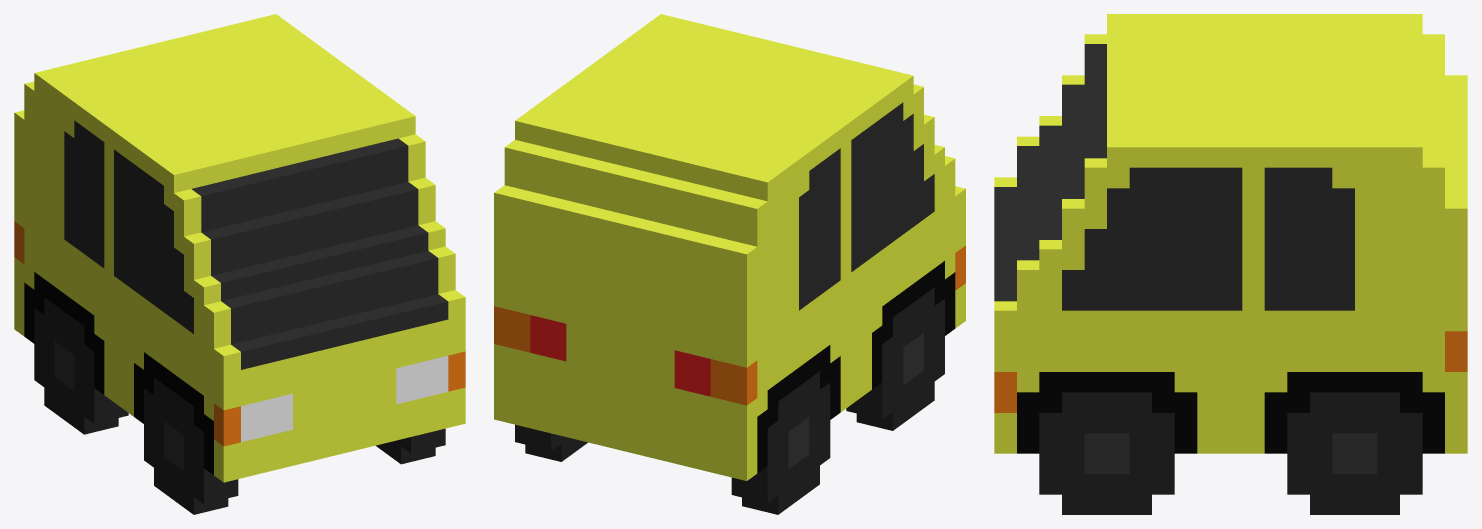
File: kit-voxel-micro-yellow.glb
3 views of the same model, side by side, from view 1: azimuth 30°, elevation 25°; view 2: azimuth 150°, elevation 25°; view 3: azimuth 270°, elevation 25° (orthographic). The views are drawn at different scales.
Visible parts, largest first — view 1: geometry_1; view 2: geometry_1; view 3: geometry_1.
Part boxes in pixels (box(x1,y1,x2,y2)): geometry_1: box(14, 14, 465, 514); geometry_1: box(494, 14, 965, 514); geometry_1: box(994, 14, 1467, 514).
Size of the model in its own units: 1.4 by 1.8 by 2.1.
Materials: 1 (1 with a texture image).
